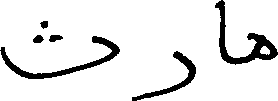ا: (216, 0, 235, 67)
ث: (0, 19, 120, 79)
ر: (130, 48, 196, 100)
م: (244, 30, 276, 66)
